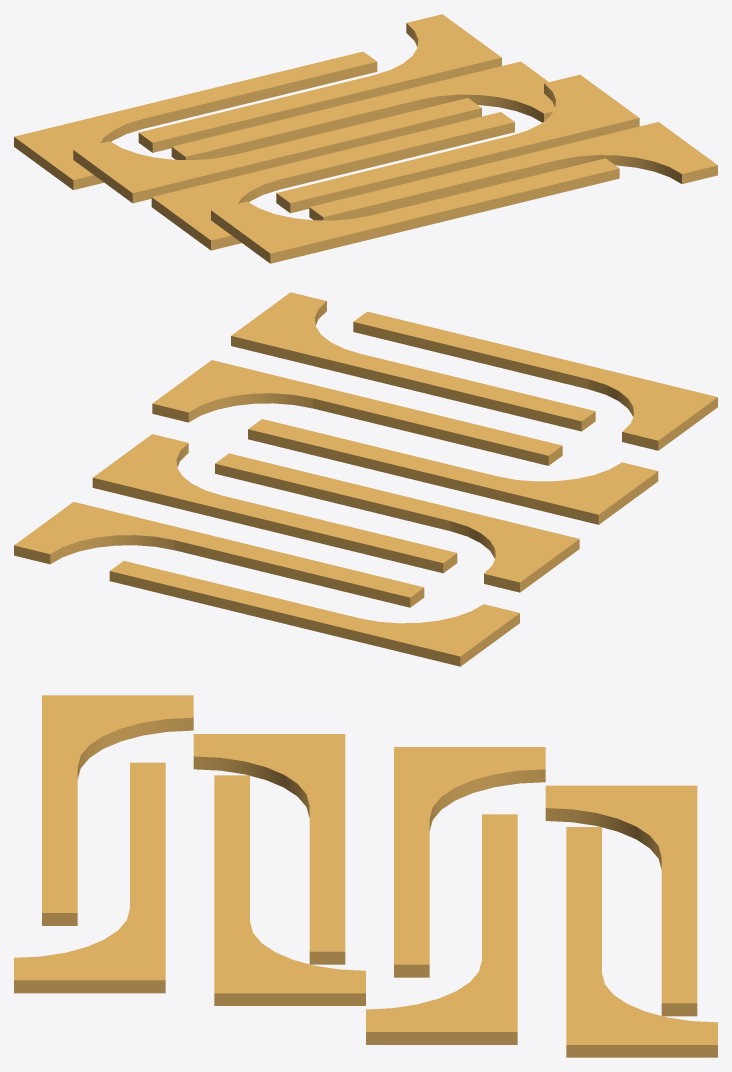
Rendered from OU_AR_ArtAnim_01_D.fbx.
The picture shows the model from 3 angles, top to bottom: view 1: azimuth 30°, elevation 25°; view 2: azimuth 150°, elevation 25°; view 3: azimuth 270°, elevation 25°; orthographic projection. The views are drawn at different scales.
Parts seen in each view (by area): view 1: OU_AR_ArtAnim_01_D.001, OU_AR_ArtAnim_01_D, OU_AR_ArtAnim_01_D.005, OU_AR_ArtAnim_01_D.007, OU_AR_ArtAnim_01_D.003, OU_AR_ArtAnim_01_D.002, OU_AR_ArtAnim_01_D.006, OU_AR_ArtAnim_01_D.004; view 2: OU_AR_ArtAnim_01_D.007, OU_AR_ArtAnim_01_D.003, OU_AR_ArtAnim_01_D.002, OU_AR_ArtAnim_01_D.006, OU_AR_ArtAnim_01_D.004, OU_AR_ArtAnim_01_D.001, OU_AR_ArtAnim_01_D, OU_AR_ArtAnim_01_D.005; view 3: OU_AR_ArtAnim_01_D.006, OU_AR_ArtAnim_01_D.002, OU_AR_ArtAnim_01_D, OU_AR_ArtAnim_01_D.007, OU_AR_ArtAnim_01_D.004, OU_AR_ArtAnim_01_D.001, OU_AR_ArtAnim_01_D.003, OU_AR_ArtAnim_01_D.005.
Part boxes in pixels (<box>): OU_AR_ArtAnim_01_D.001: <box>211,158,619,263</box>; OU_AR_ArtAnim_01_D: <box>309,122,717,220</box>; OU_AR_ArtAnim_01_D.005: <box>73,98,481,203</box>; OU_AR_ArtAnim_01_D.007: <box>138,14,501,152</box>; OU_AR_ArtAnim_01_D.003: <box>276,74,639,213</box>; OU_AR_ArtAnim_01_D.002: <box>151,112,514,250</box>; OU_AR_ArtAnim_01_D.006: <box>14,51,377,189</box>; OU_AR_ArtAnim_01_D.004: <box>171,61,555,159</box>; OU_AR_ArtAnim_01_D.007: <box>14,502,424,607</box>; OU_AR_ArtAnim_01_D.003: <box>152,360,562,465</box>; OU_AR_ArtAnim_01_D.002: <box>248,419,658,524</box>; OU_AR_ArtAnim_01_D.006: <box>109,561,519,666</box>; OU_AR_ArtAnim_01_D.004: <box>92,434,457,573</box>; OU_AR_ArtAnim_01_D.001: <box>353,311,717,450</box>; OU_AR_ArtAnim_01_D: <box>231,292,595,431</box>; OU_AR_ArtAnim_01_D.005: <box>215,453,579,592</box>; OU_AR_ArtAnim_01_D.006: <box>545,785,697,1016</box>; OU_AR_ArtAnim_01_D.002: <box>193,734,345,964</box>; OU_AR_ArtAnim_01_D: <box>14,762,165,993</box>; OU_AR_ArtAnim_01_D.007: <box>566,827,717,1057</box>; OU_AR_ArtAnim_01_D.004: <box>366,814,517,1044</box>; OU_AR_ArtAnim_01_D.001: <box>42,695,193,925</box>; OU_AR_ArtAnim_01_D.003: <box>214,775,365,1005</box>; OU_AR_ArtAnim_01_D.005: <box>394,747,545,977</box>.
Bounding box in the file's own units: 1038 × 184 × 1135.
